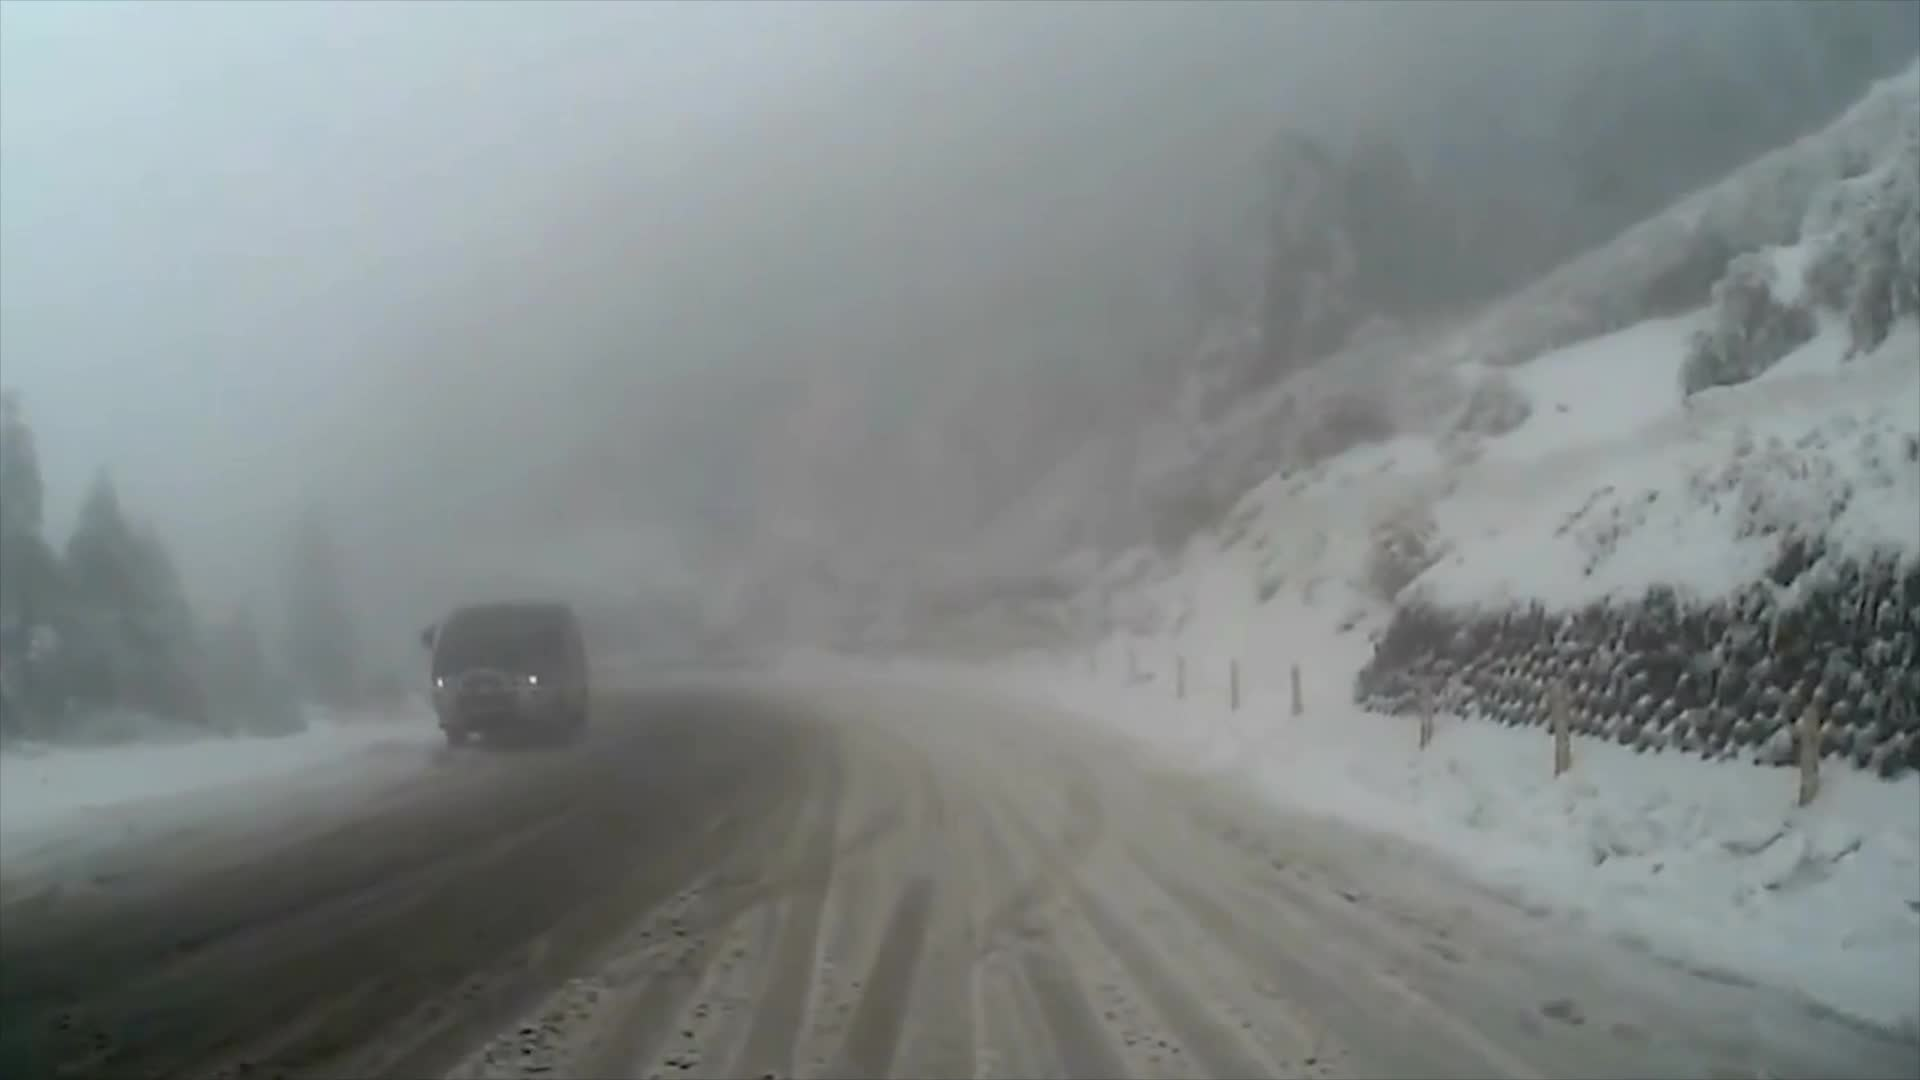vehicle: (417, 601, 589, 748)
